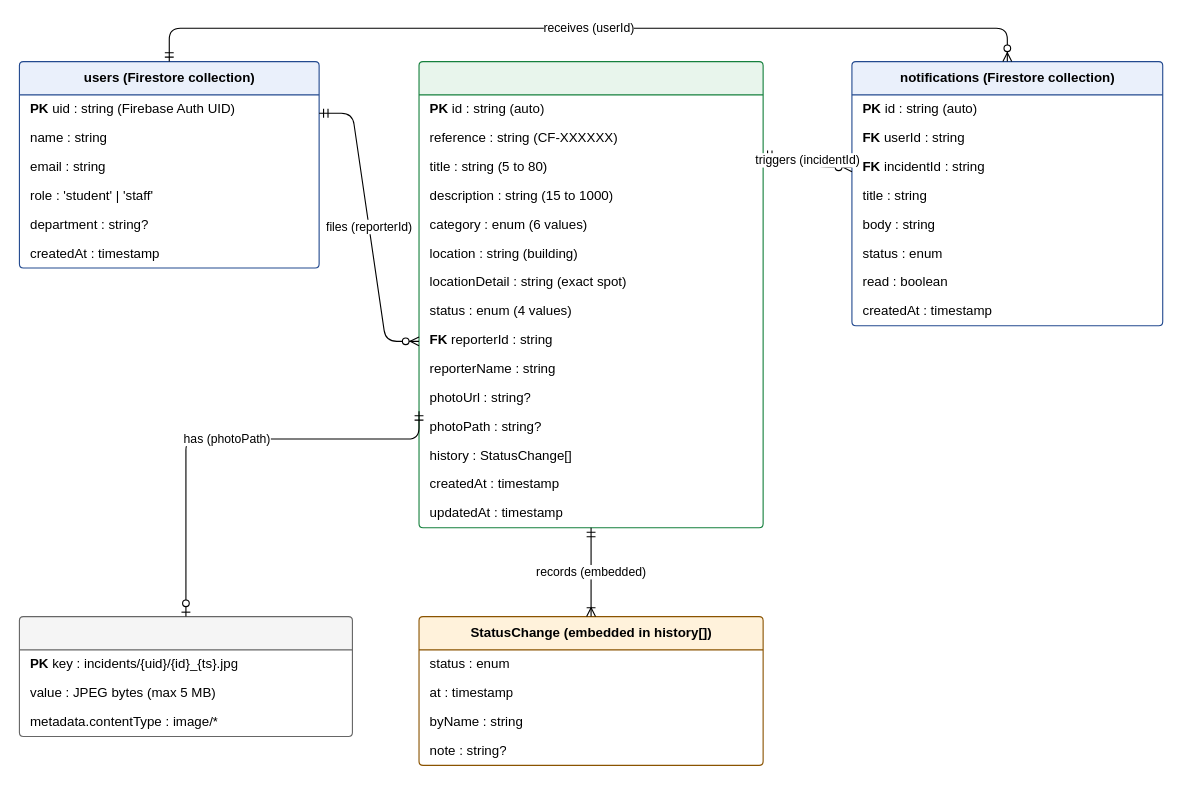
Image size: 1182x785. Some labels were removed from this diagram. Here are the shapes that lost their labels. From the top down, the box of each, then its label:
(418, 60, 763, 528): incidents (Firestore collection)
(18, 615, 352, 736): Photo object (Cloudflare Workers KV)
